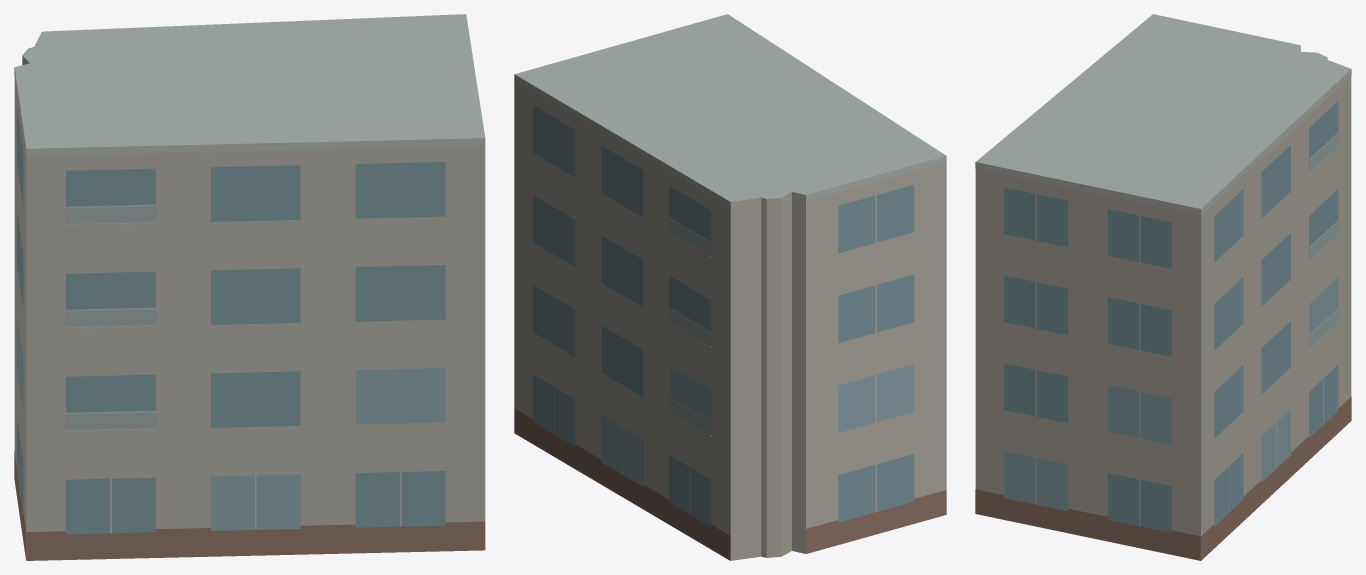
Rendered from survey-upis-32723705.glb.
The picture shows the model from 3 angles, left to right: view 1: azimuth 30°, elevation 25°; view 2: azimuth 150°, elevation 25°; view 3: azimuth 270°, elevation 25°; orthographic projection. The views are drawn at different scales.
Visible parts, largest first — view 1: survey-upis-32723705.tmp; view 2: survey-upis-32723705.tmp; view 3: survey-upis-32723705.tmp.
Boxes of the visible parts, x1=… form: survey-upis-32723705.tmp: x1=14, y1=14, x2=485, y2=560; survey-upis-32723705.tmp: x1=514, y1=14, x2=946, y2=560; survey-upis-32723705.tmp: x1=975, y1=14, x2=1351, y2=560.
Size of the model in its own units: 15.46 by 13 by 12.6.
